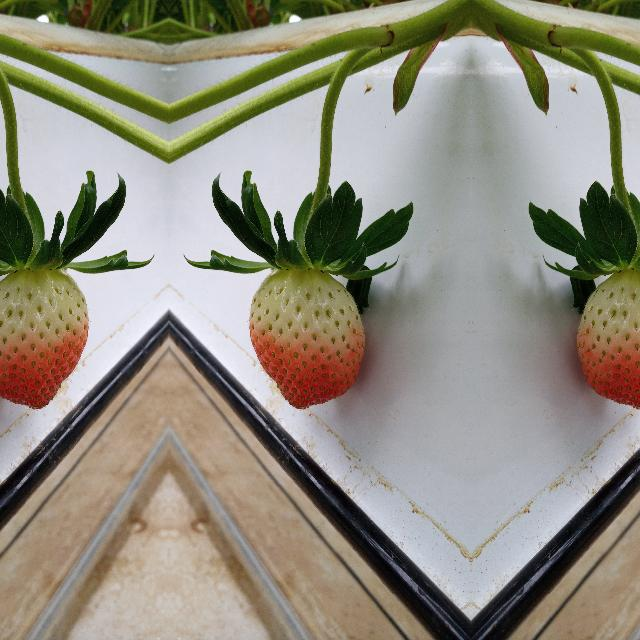Health_50: (247, 268, 366, 410), (0, 267, 89, 410), (575, 267, 640, 410)
